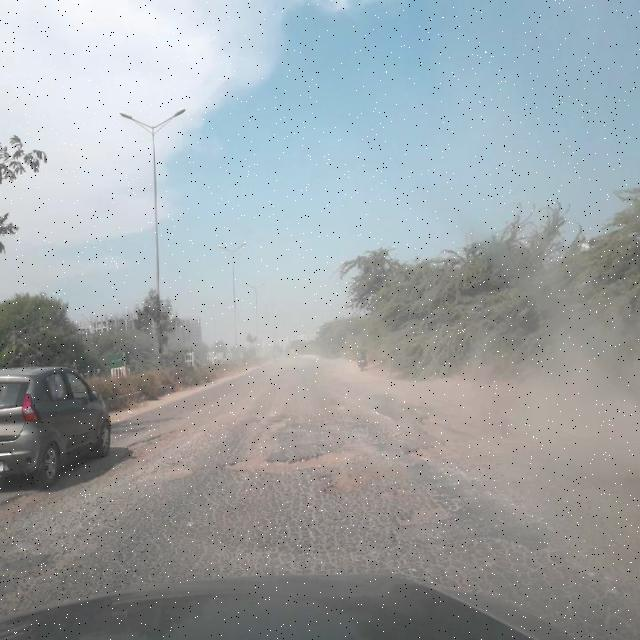D20: (1, 422, 577, 577)
D40: (406, 407, 499, 468), (219, 440, 359, 476), (116, 424, 188, 456), (402, 499, 463, 528), (141, 461, 199, 487), (262, 406, 307, 433)
